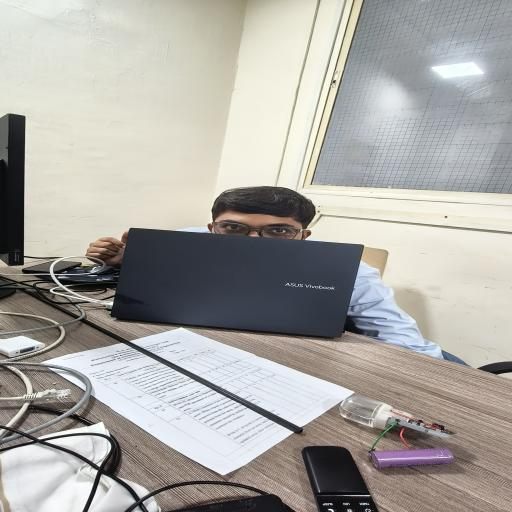survivor: (85, 186, 471, 368)
